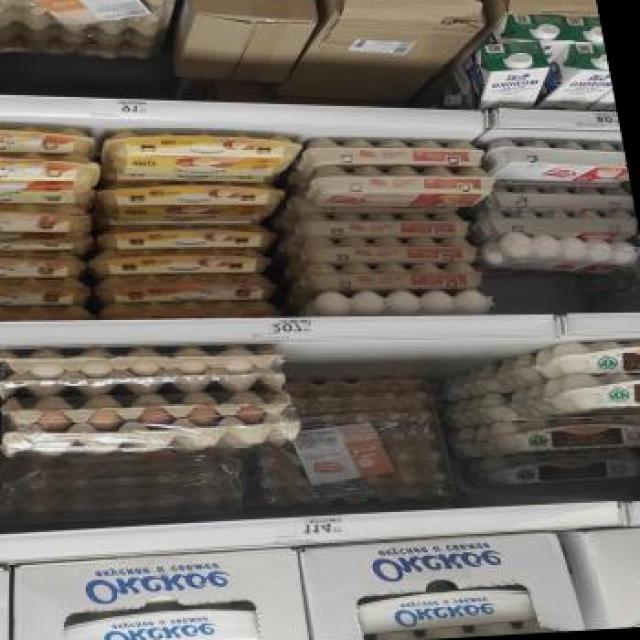Eggs: (102, 122, 306, 186), (300, 159, 496, 218), (94, 178, 290, 230), (296, 128, 490, 176), (350, 584, 536, 634), (476, 136, 630, 192), (451, 39, 558, 116), (290, 205, 476, 247), (459, 448, 640, 490), (96, 266, 275, 308), (297, 256, 484, 296), (55, 605, 258, 640), (91, 220, 276, 258), (473, 413, 640, 455), (89, 242, 268, 280), (526, 40, 616, 114), (293, 230, 477, 266), (0, 144, 101, 207), (0, 196, 95, 254), (311, 620, 576, 640), (0, 109, 93, 164), (534, 369, 640, 417), (528, 336, 640, 378), (0, 274, 95, 313), (0, 245, 86, 287), (607, 605, 640, 627)
